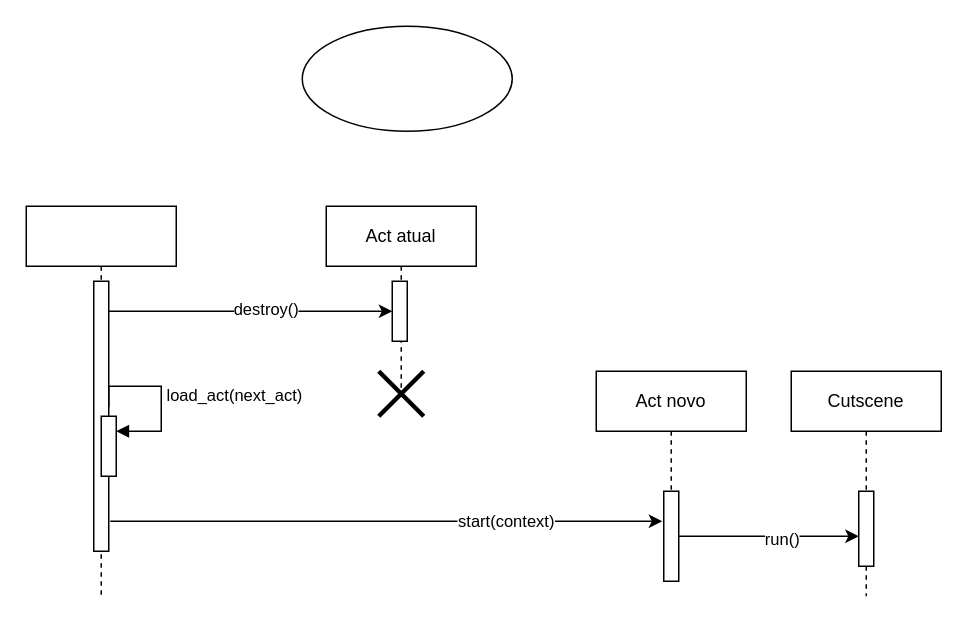
Some shapes in this 968 by 623 pixel diagram are drawn without their labels. Here are the shapes that lost their labels. From the top down, the centre of each, then its label:
(406,78): Iniciar novo capítulo
(100,400): Game
